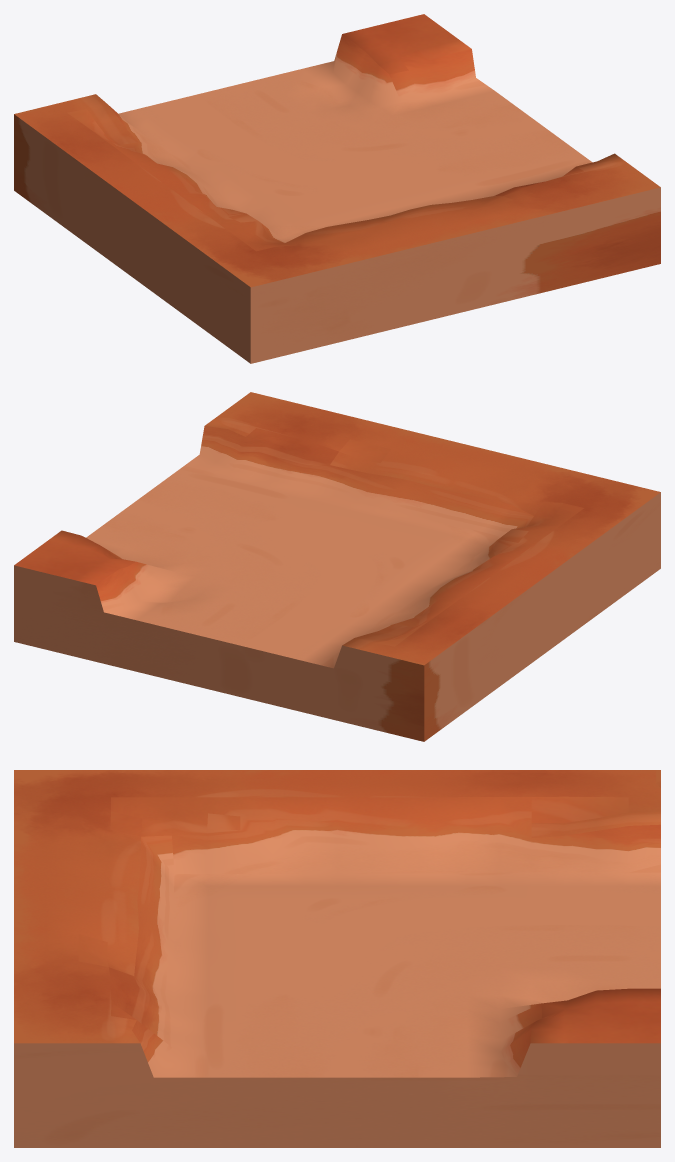
File: Path_curve_textured.fbx
The picture shows the model from 3 angles, top to bottom: view 1: azimuth 30°, elevation 25°; view 2: azimuth 150°, elevation 25°; view 3: azimuth 270°, elevation 25°; orthographic projection. The views are drawn at different scales.
Parts seen in each view (by area): view 1: pCube1; view 2: pCube1; view 3: pCube1.
Part boxes in pixels (x1,y1,x2,y2): pCube1: (14, 14, 660, 363); pCube1: (14, 392, 660, 741); pCube1: (14, 770, 660, 1147).
Size of the model in its own units: 3.81 by 0.6834 by 3.81.
